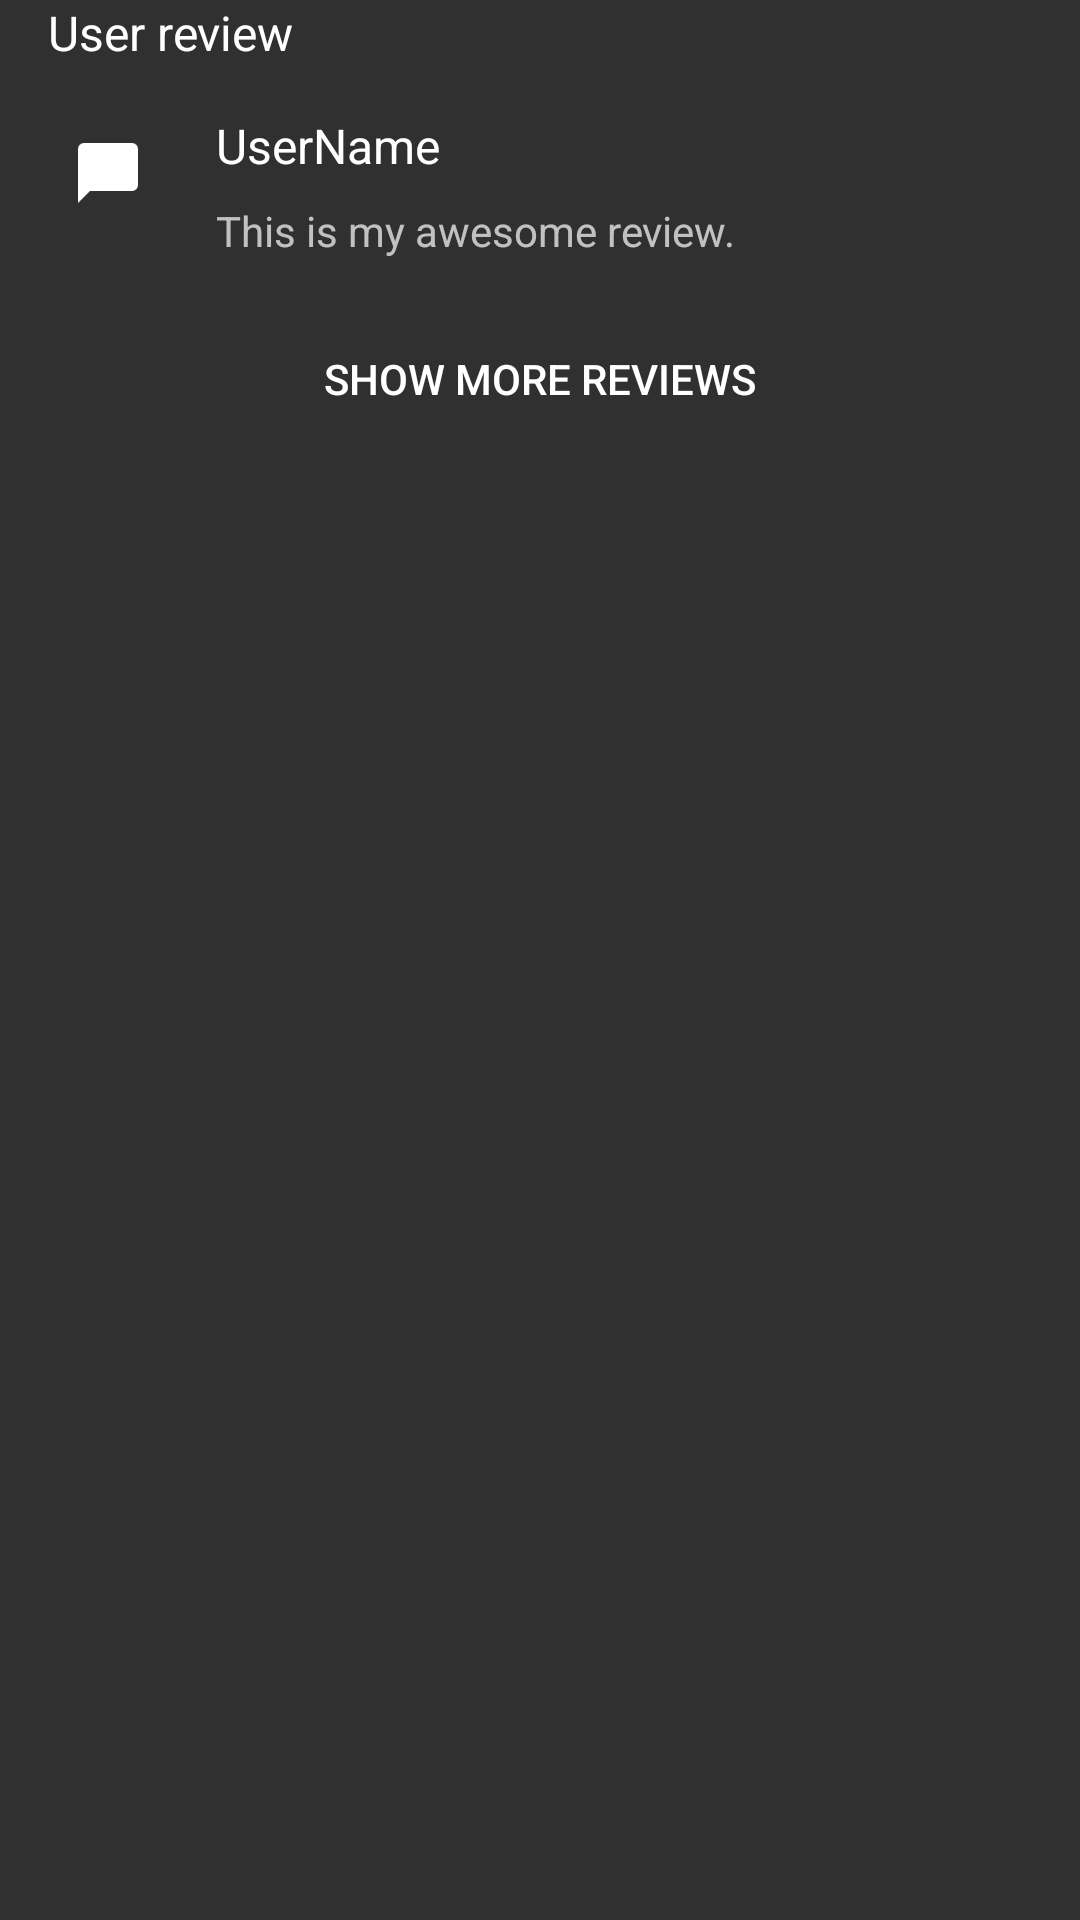

Screen size 1080 × 1920. Icon name, then its box in pixels as {"x1": x1, "y1": y1, "x2": x2, "y2": y2}:
message: {"x1": 78, "y1": 143, "x2": 138, "y2": 203}
